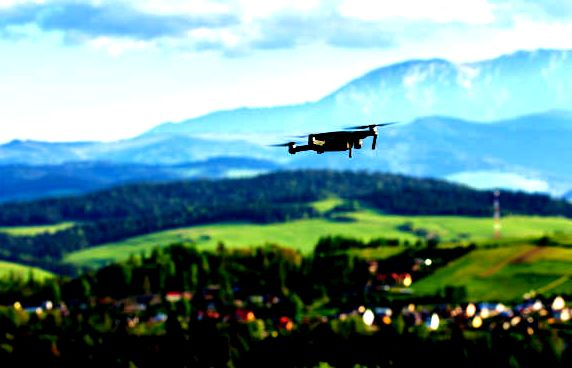Drone: (265, 119, 395, 159)
